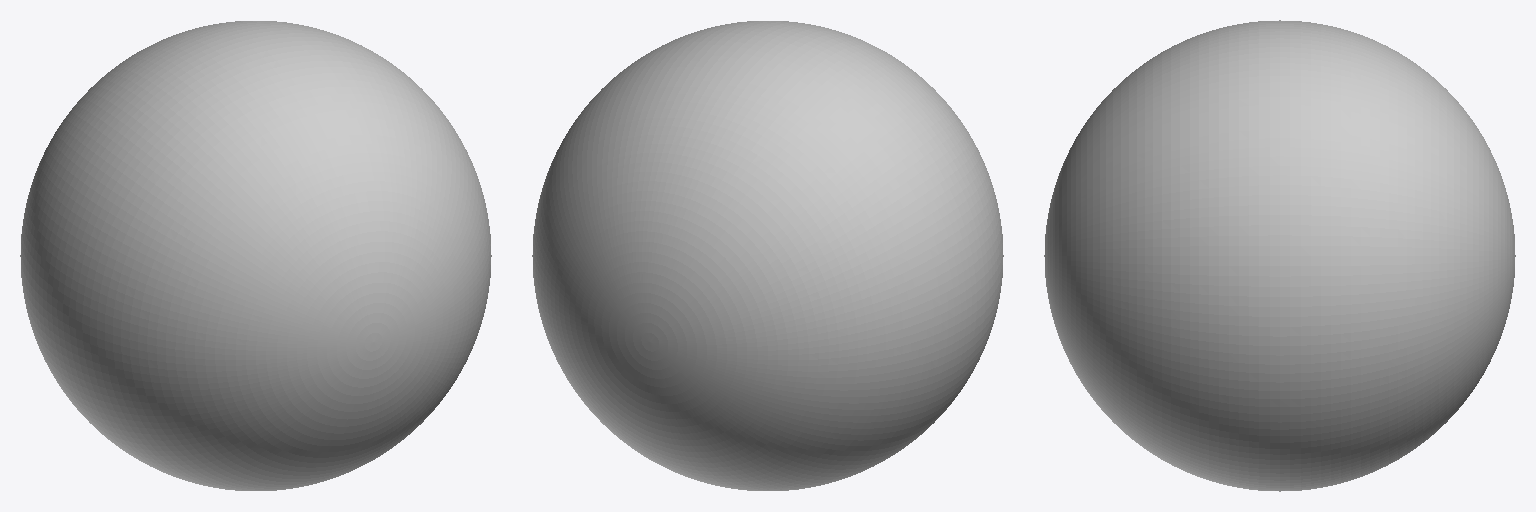
Rendered from 11golfball.obj.
3 renders of one model, left to right at view 1: azimuth 30°, elevation 25°; view 2: azimuth 150°, elevation 25°; view 3: azimuth 270°, elevation 25°, orthographic.
Visible parts, largest first — view 1: mesh0_meshnode_0; view 2: mesh0_meshnode_0; view 3: mesh0_meshnode_0.
Boxes of the visible parts, box(x1,y1,x2,y2) form: mesh0_meshnode_0: box(20, 21, 491, 490); mesh0_meshnode_0: box(532, 21, 1003, 490); mesh0_meshnode_0: box(1044, 20, 1515, 491).
Size of the model in its own units: 0.0843 by 0.0843 by 0.0843.